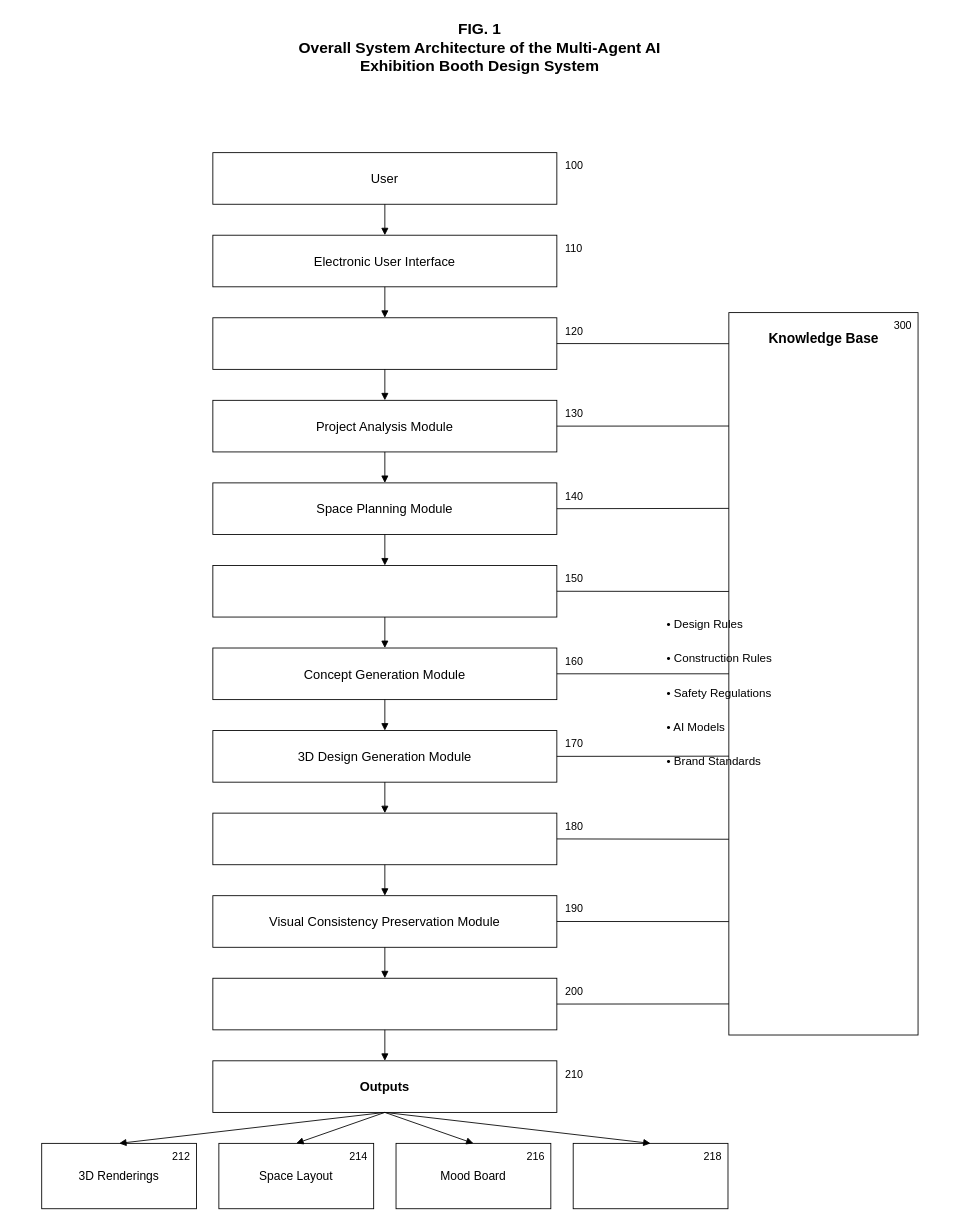
Some shapes in this 958 by 1224 pixel diagram are drawn without their labels. The shapes that lost their labels are listed below. From the top down, each one's box as (x1, y1, x2, y2) in pixels, then its label:
(212, 317, 557, 369): Data Acquisition Module
(212, 565, 557, 617): Brand & Product Management Module
(212, 812, 557, 865): Design Validation & Compliance Module
(212, 977, 557, 1030): Design Output Generation Module
(572, 1143, 728, 1209): Manufacturing Reference Files
